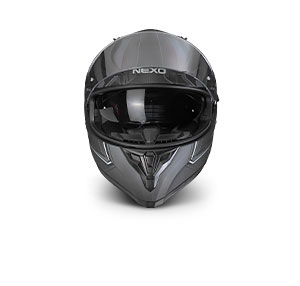with_helmet: (79, 23, 224, 210)
